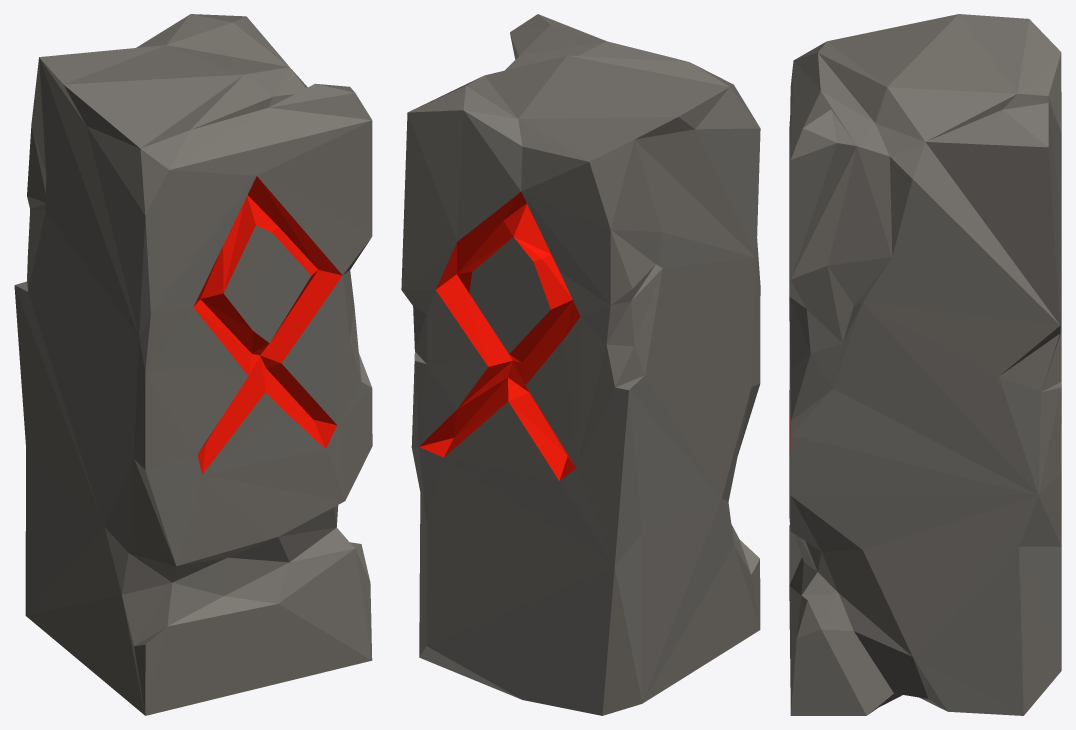
The model's file is SM_Env_Rune_Pillar_03.fbx.
3 renders of one model, left to right at view 1: azimuth 30°, elevation 25°; view 2: azimuth 150°, elevation 25°; view 3: azimuth 270°, elevation 25°, orthographic. The views are drawn at different scales.
Visible parts, largest first — view 1: SM_Env_Rune_Pillar_03; view 2: SM_Env_Rune_Pillar_03; view 3: SM_Env_Rune_Pillar_03.
Boxes of the visible parts, x1,y1,x2,y2 form: SM_Env_Rune_Pillar_03: (14,14,372,715); SM_Env_Rune_Pillar_03: (401,14,760,715); SM_Env_Rune_Pillar_03: (789,14,1061,715).
Size of the model in its own units: 1 by 2.38 by 1.
